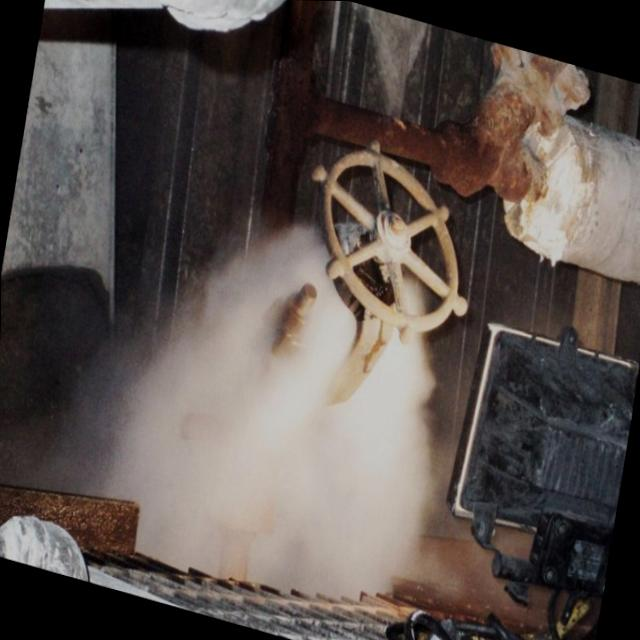smoke: (144, 274, 418, 587)
